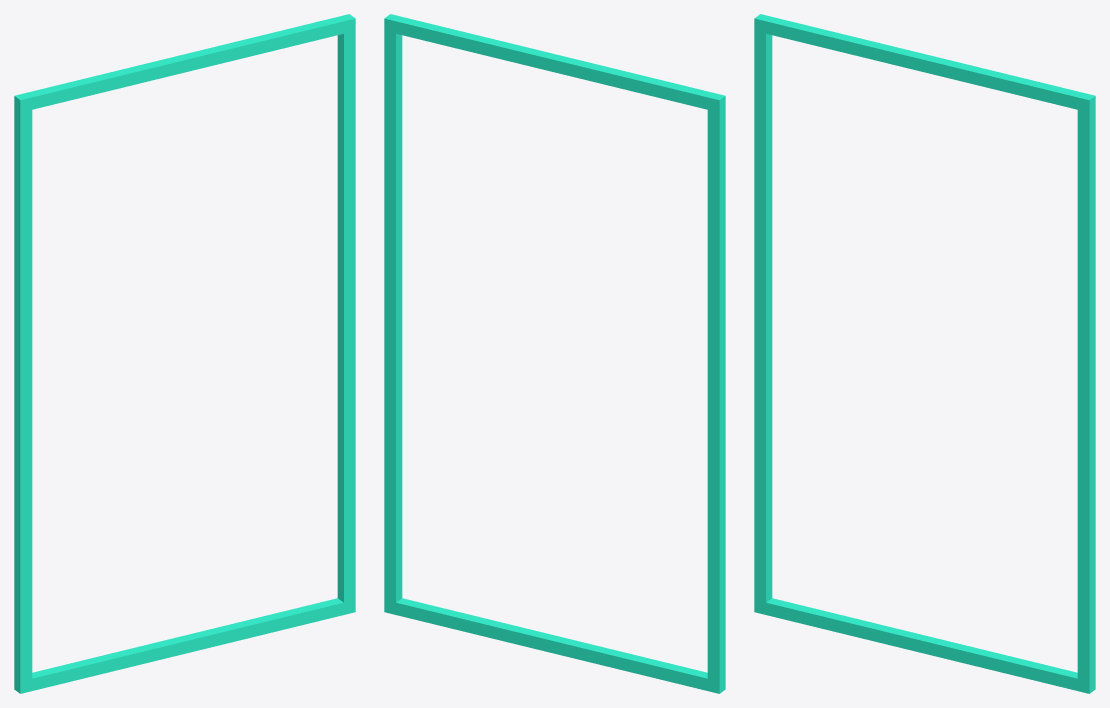
File: theta-adv-frame.glb
3 views of the same model, side by side, from view 1: azimuth 30°, elevation 25°; view 2: azimuth 150°, elevation 25°; view 3: azimuth 330°, elevation 25° (orthographic).
Parts seen in each view (by area): view 1: Marco_Publicidad; view 2: Marco_Publicidad; view 3: Marco_Publicidad.
Part boxes in pixels (x1=…): Marco_Publicidad: x1=14, y1=14, x2=355, y2=693; Marco_Publicidad: x1=384, y1=14, x2=725, y2=693; Marco_Publicidad: x1=754, y1=14, x2=1095, y2=693.
Size of the model in its own units: 2.83 by 4.79 by 0.09.
